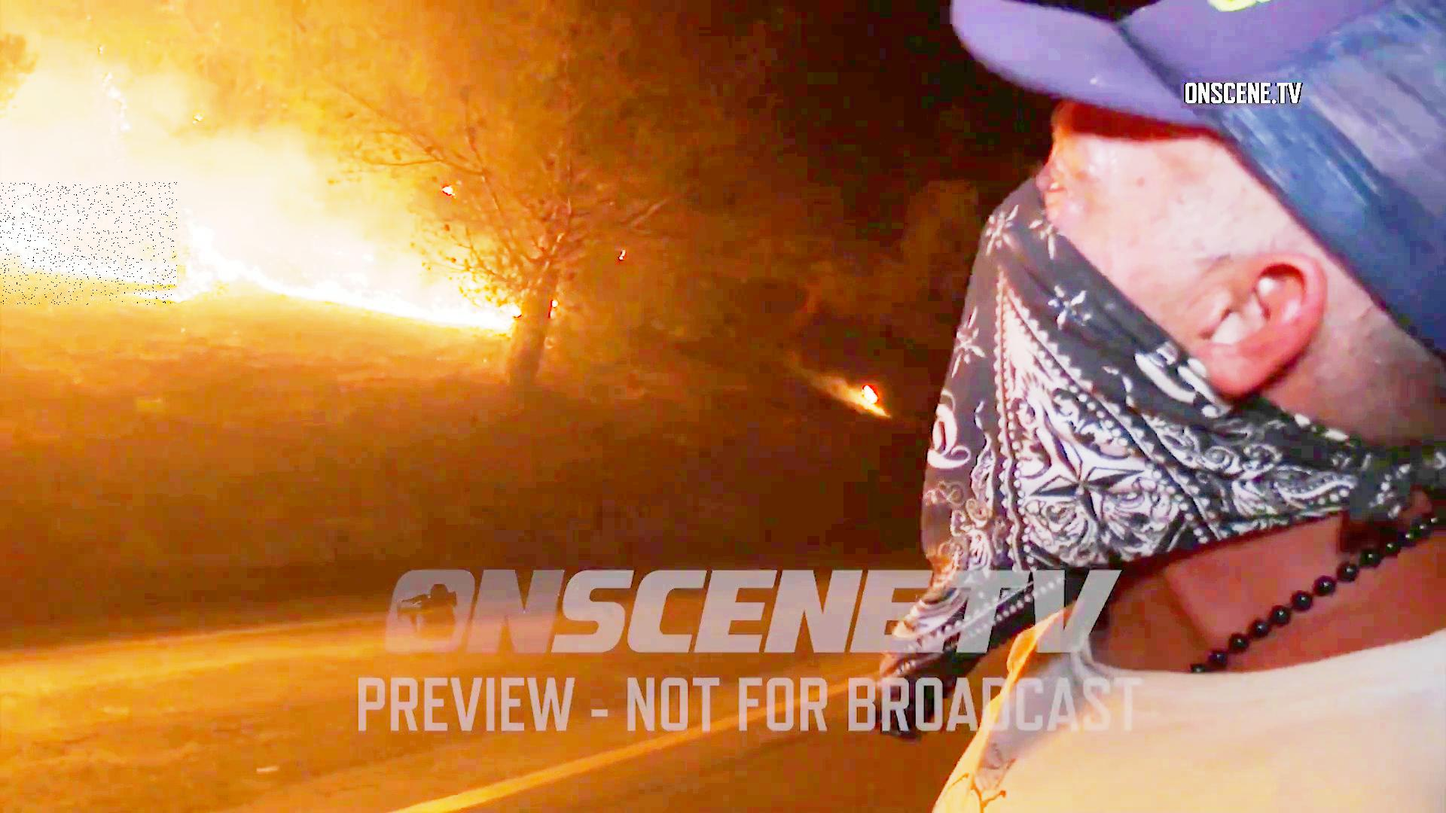fire: (0, 182, 177, 305)
